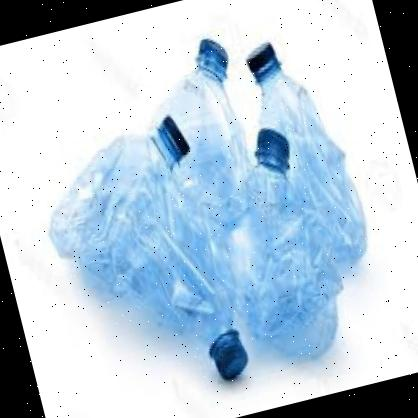bottle: (197, 114, 362, 371), (226, 20, 384, 285), (24, 103, 224, 309), (132, 27, 272, 236)
cap: (206, 332, 256, 388), (240, 36, 284, 82), (160, 110, 188, 156)
